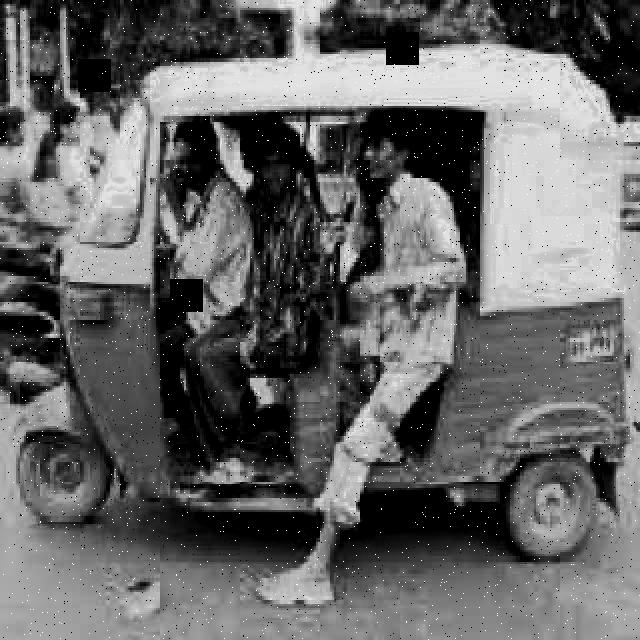Auto-Rickshaw: (52, 58, 640, 584)
